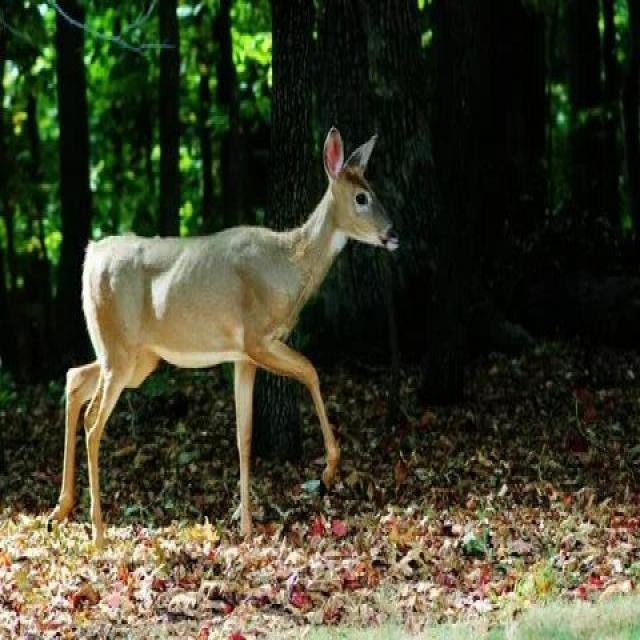deer: (44, 75, 416, 538)
